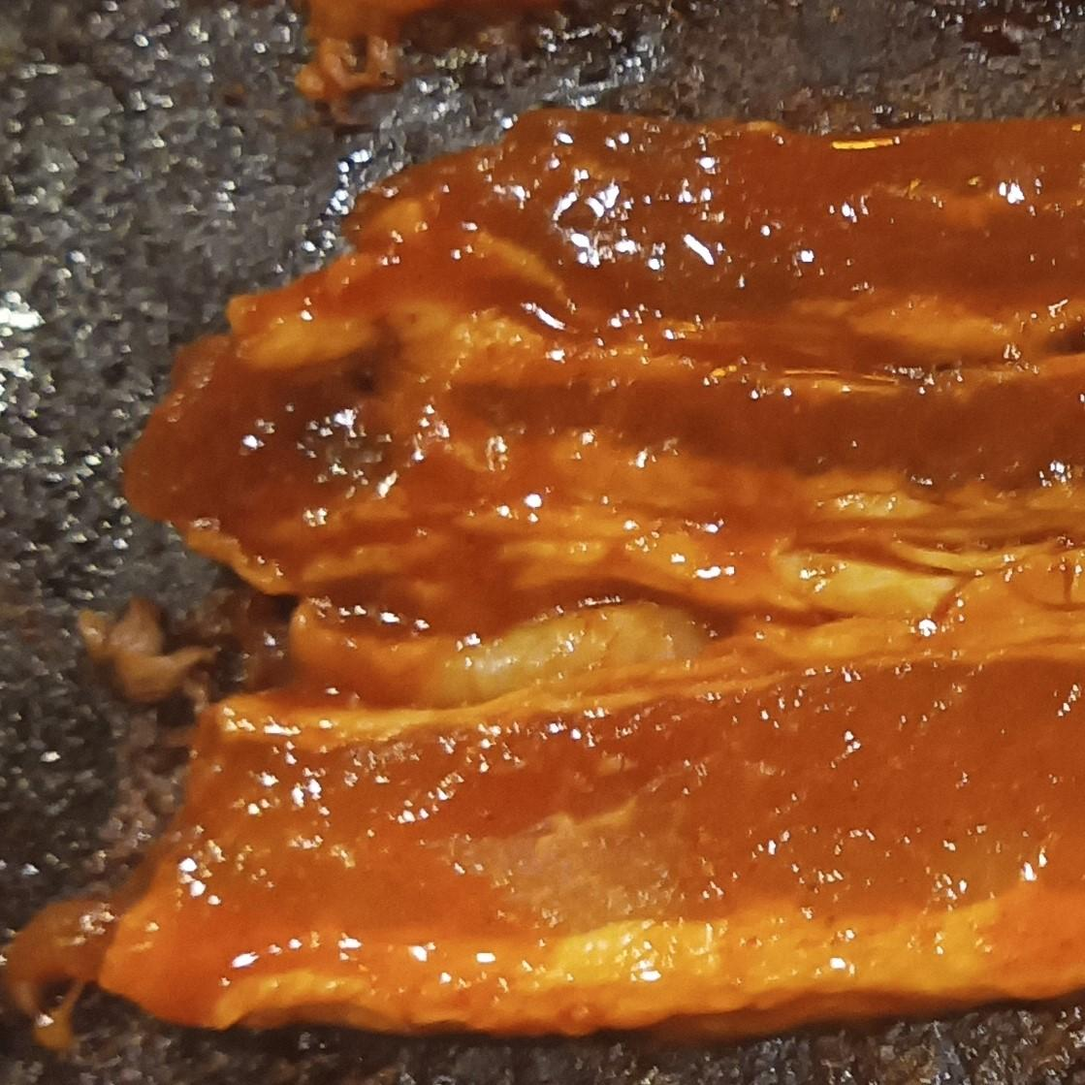Undercooked: (4, 109, 1084, 1049)
